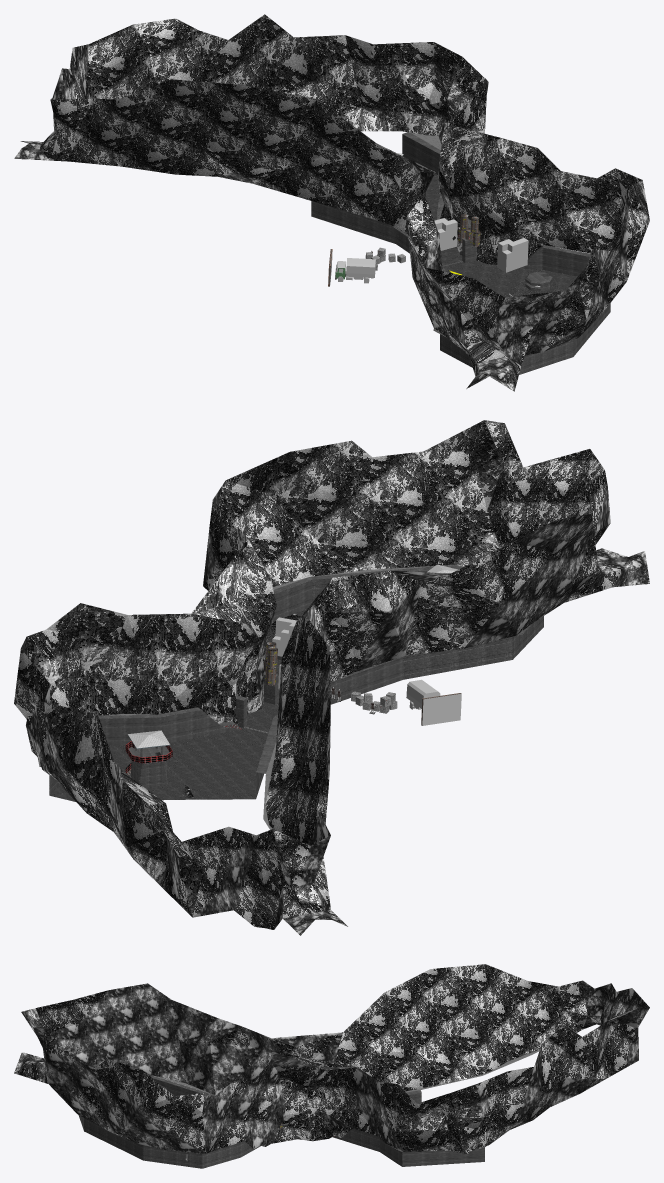
Rendered from dam6.obj.
3 views of the same model, one above another, from view 1: azimuth 30°, elevation 25°; view 2: azimuth 150°, elevation 25°; view 3: azimuth 270°, elevation 25° (orthographic). The views are drawn at different scales.
Parts seen in each view (by area): view 1: 003_250FD62A_c.bmp, 000_250FD62A_c.bmp, 238_25813CA2_c.bmp, 254_25813CA2_c.bmp, 229_58933A3F_c.bmp, 004_2EA15BC3_c.bmp, 158_2EA15BC3_c.bmp; view 2: 000_250FD62A_c.bmp, 003_250FD62A_c.bmp, 247_58933A3F_c.bmp, 238_25813CA2_c.bmp, 254_25813CA2_c.bmp, 252_255D277A_c.bmp, 237_255D277A_c.bmp; view 3: 003_250FD62A_c.bmp, 000_250FD62A_c.bmp, 238_25813CA2_c.bmp, 254_25813CA2_c.bmp, 001_6CBC4A8A_c.bmp.
Part boxes in pixels (x1=…): 003_250FD62A_c.bmp: x1=14, y1=14, x2=501, y2=223; 000_250FD62A_c.bmp: x1=389, y1=138, x2=649, y2=391; 238_25813CA2_c.bmp: x1=440, y1=239, x2=610, y2=374; 254_25813CA2_c.bmp: x1=311, y1=134, x2=439, y2=249; 229_58933A3F_c.bmp: x1=443, y1=260, x2=577, y2=297; 004_2EA15BC3_c.bmp: x1=497, y1=238, x2=528, y2=272; 158_2EA15BC3_c.bmp: x1=434, y1=218, x2=457, y2=250; 000_250FD62A_c.bmp: x1=203, y1=420, x2=649, y2=714; 003_250FD62A_c.bmp: x1=14, y1=539, x2=347, y2=935; 247_58933A3F_c.bmp: x1=49, y1=727, x2=268, y2=801; 238_25813CA2_c.bmp: x1=272, y1=570, x2=543, y2=704; 254_25813CA2_c.bmp: x1=49, y1=699, x2=263, y2=798; 252_255D277A_c.bmp: x1=40, y1=707, x2=277, y2=773; 237_255D277A_c.bmp: x1=263, y1=565, x2=533, y2=682; 003_250FD62A_c.bmp: x1=271, y1=964, x2=649, y2=1153; 000_250FD62A_c.bmp: x1=14, y1=983, x2=325, y2=1153; 238_25813CA2_c.bmp: x1=78, y1=1078, x2=260, y2=1168; 254_25813CA2_c.bmp: x1=332, y1=1093, x2=484, y2=1166; 001_6CBC4A8A_c.bmp: x1=389, y1=1050, x2=539, y2=1151.
Size of the model in its own units: 1.48 by 0.5735 by 2.76.
